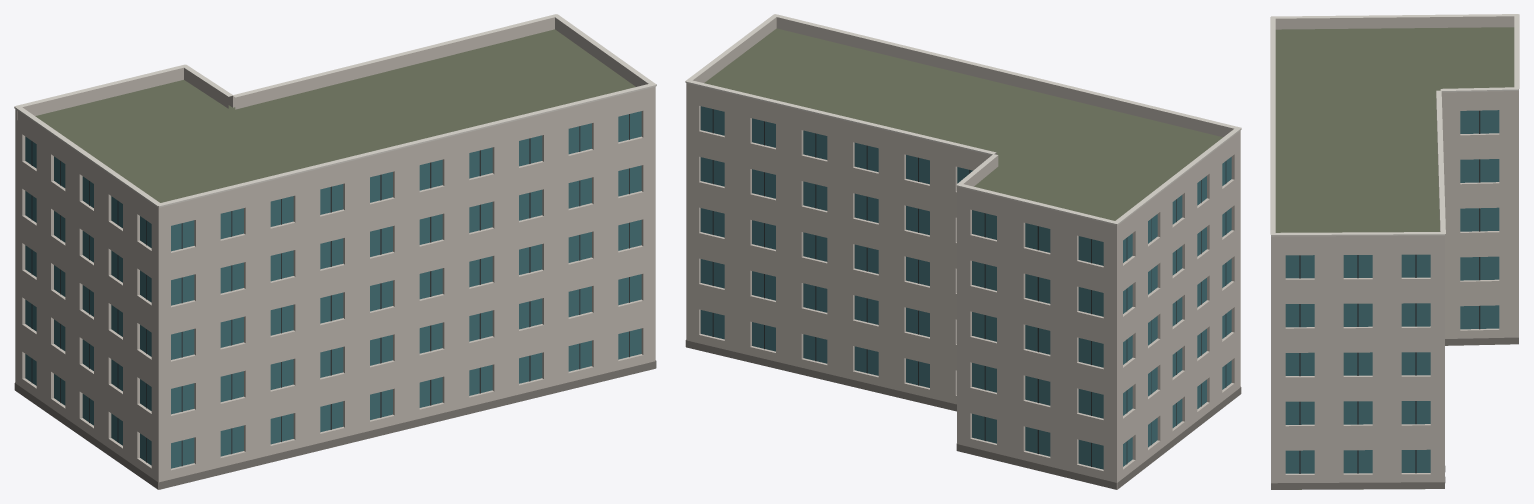
The picture shows the model from 3 angles, left to right: view 1: azimuth 30°, elevation 25°; view 2: azimuth 150°, elevation 25°; view 3: azimuth 270°, elevation 25°; orthographic projection. The views are drawn at different scales.
Parts seen in each view (by area): view 1: hotelSouth__wall, hotelSouth__roof, hotelSouth__glass, hotelSouth__parapet, hotelSouth__trim, hotelSouth__base, hotelSouth__frame; view 2: hotelSouth__wall, hotelSouth__roof, hotelSouth__glass, hotelSouth__parapet, hotelSouth__trim, hotelSouth__base, hotelSouth__frame; view 3: hotelSouth__wall, hotelSouth__roof, hotelSouth__glass, hotelSouth__parapet, hotelSouth__trim, hotelSouth__base, hotelSouth__frame.
Part boxes in pixels (<box>): hotelSouth__wall: <box>15,97,655,489</box>; hotelSouth__roof: <box>35,29,635,489</box>; hotelSouth__glass: <box>25,111,641,468</box>; hotelSouth__parapet: <box>15,17,655,217</box>; hotelSouth__trim: <box>14,14,656,207</box>; hotelSouth__base: <box>14,360,656,489</box>; hotelSouth__frame: <box>31,114,629,466</box>; hotelSouth__wall: <box>686,92,1240,489</box>; hotelSouth__roof: <box>704,28,1222,220</box>; hotelSouth__glass: <box>700,106,1231,469</box>; hotelSouth__parapet: <box>686,17,1240,234</box>; hotelSouth__trim: <box>685,14,1241,225</box>; hotelSouth__base: <box>685,340,1241,489</box>; hotelSouth__frame: <box>712,109,1226,466</box>; hotelSouth__wall: <box>1271,100,1518,483</box>; hotelSouth__roof: <box>1275,27,1514,489</box>; hotelSouth__glass: <box>1285,110,1499,473</box>; hotelSouth__parapet: <box>1271,16,1518,245</box>; hotelSouth__trim: <box>1270,14,1519,236</box>; hotelSouth__base: <box>1271,337,1518,489</box>; hotelSouth__frame: <box>1299,110,1480,473</box>.
Bounding box in the file's own units: 34.97 × 18.82 × 16.68.
